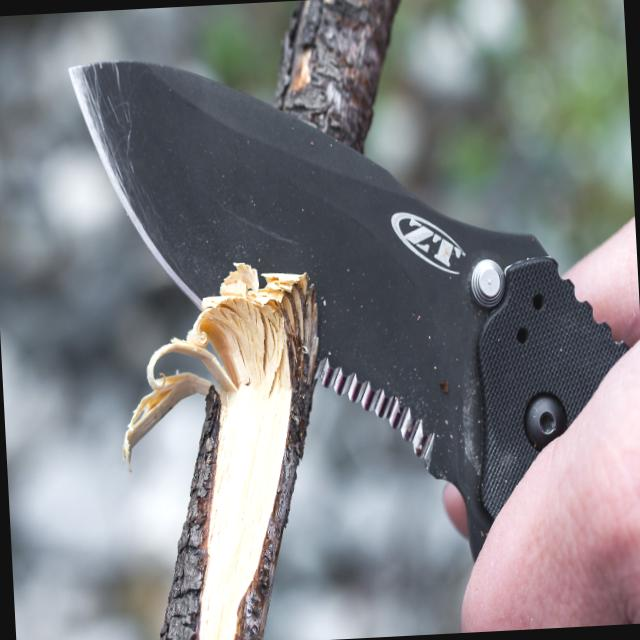knife: (51, 15, 639, 594)
